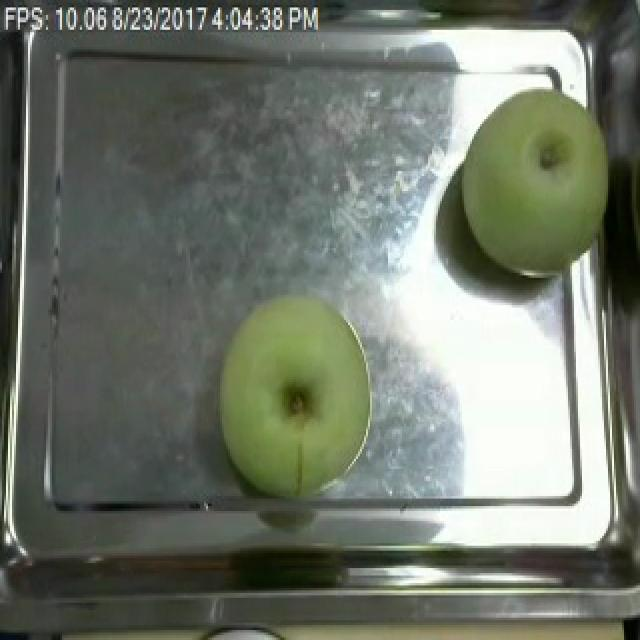50-_ripeness: (210, 284, 388, 521), (458, 85, 618, 290)
